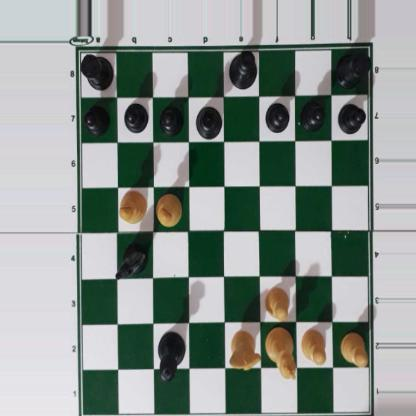black-bishop: (194, 105, 223, 140)
black-king: (227, 49, 258, 89)
black-knight: (114, 237, 148, 280)
black-pawn: (338, 100, 364, 134), (265, 99, 289, 132), (84, 102, 109, 133), (301, 99, 325, 131), (123, 101, 147, 133), (159, 103, 183, 134)
black-queen: (155, 330, 187, 382)
black-rook: (78, 51, 114, 90), (336, 49, 370, 87)
white-bishop: (155, 192, 184, 229), (118, 190, 147, 226)
white-king: (265, 326, 295, 379)
white-knight: (228, 330, 261, 373)
white-pawn: (301, 327, 328, 365), (340, 331, 367, 365), (264, 284, 290, 319)
